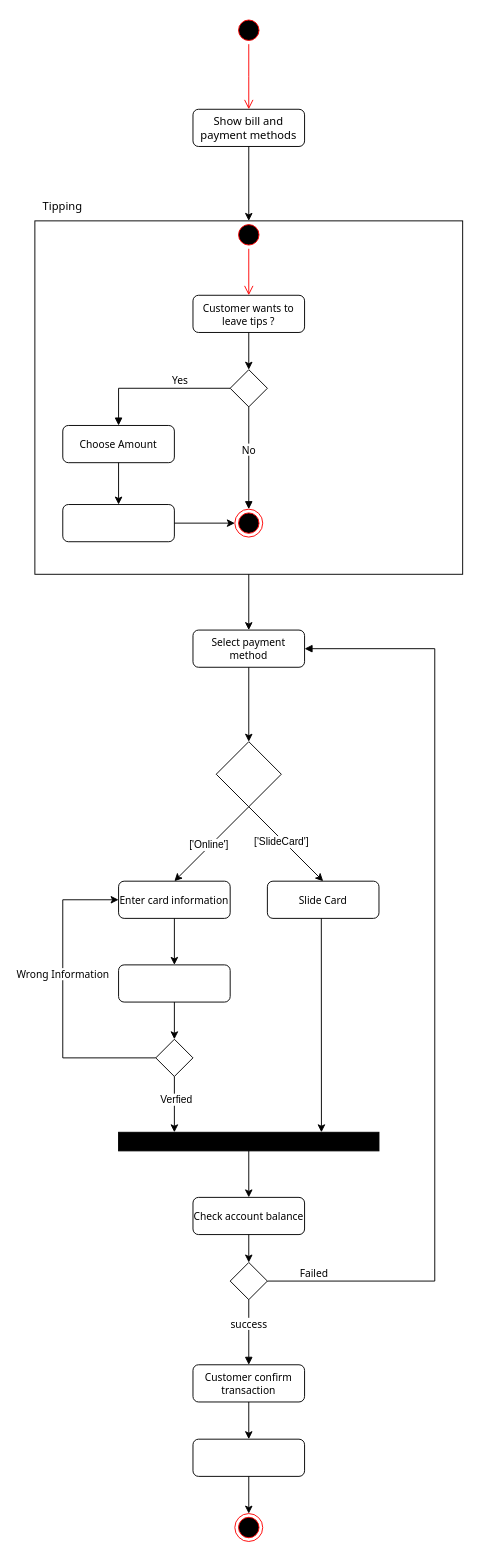
The diagram is 479 pixels wide and 1558 high, and some of its shapes have lost their labels. Here are the shapes that lost their labels. From the top down, the centre of each, then its label:
At (x=118, y=523): "Update bill Info".
At (x=248, y=774): "Choice =".
At (x=174, y=983): "System verifies the card information".
At (x=248, y=1457): "Notifies customer successful transaction".
